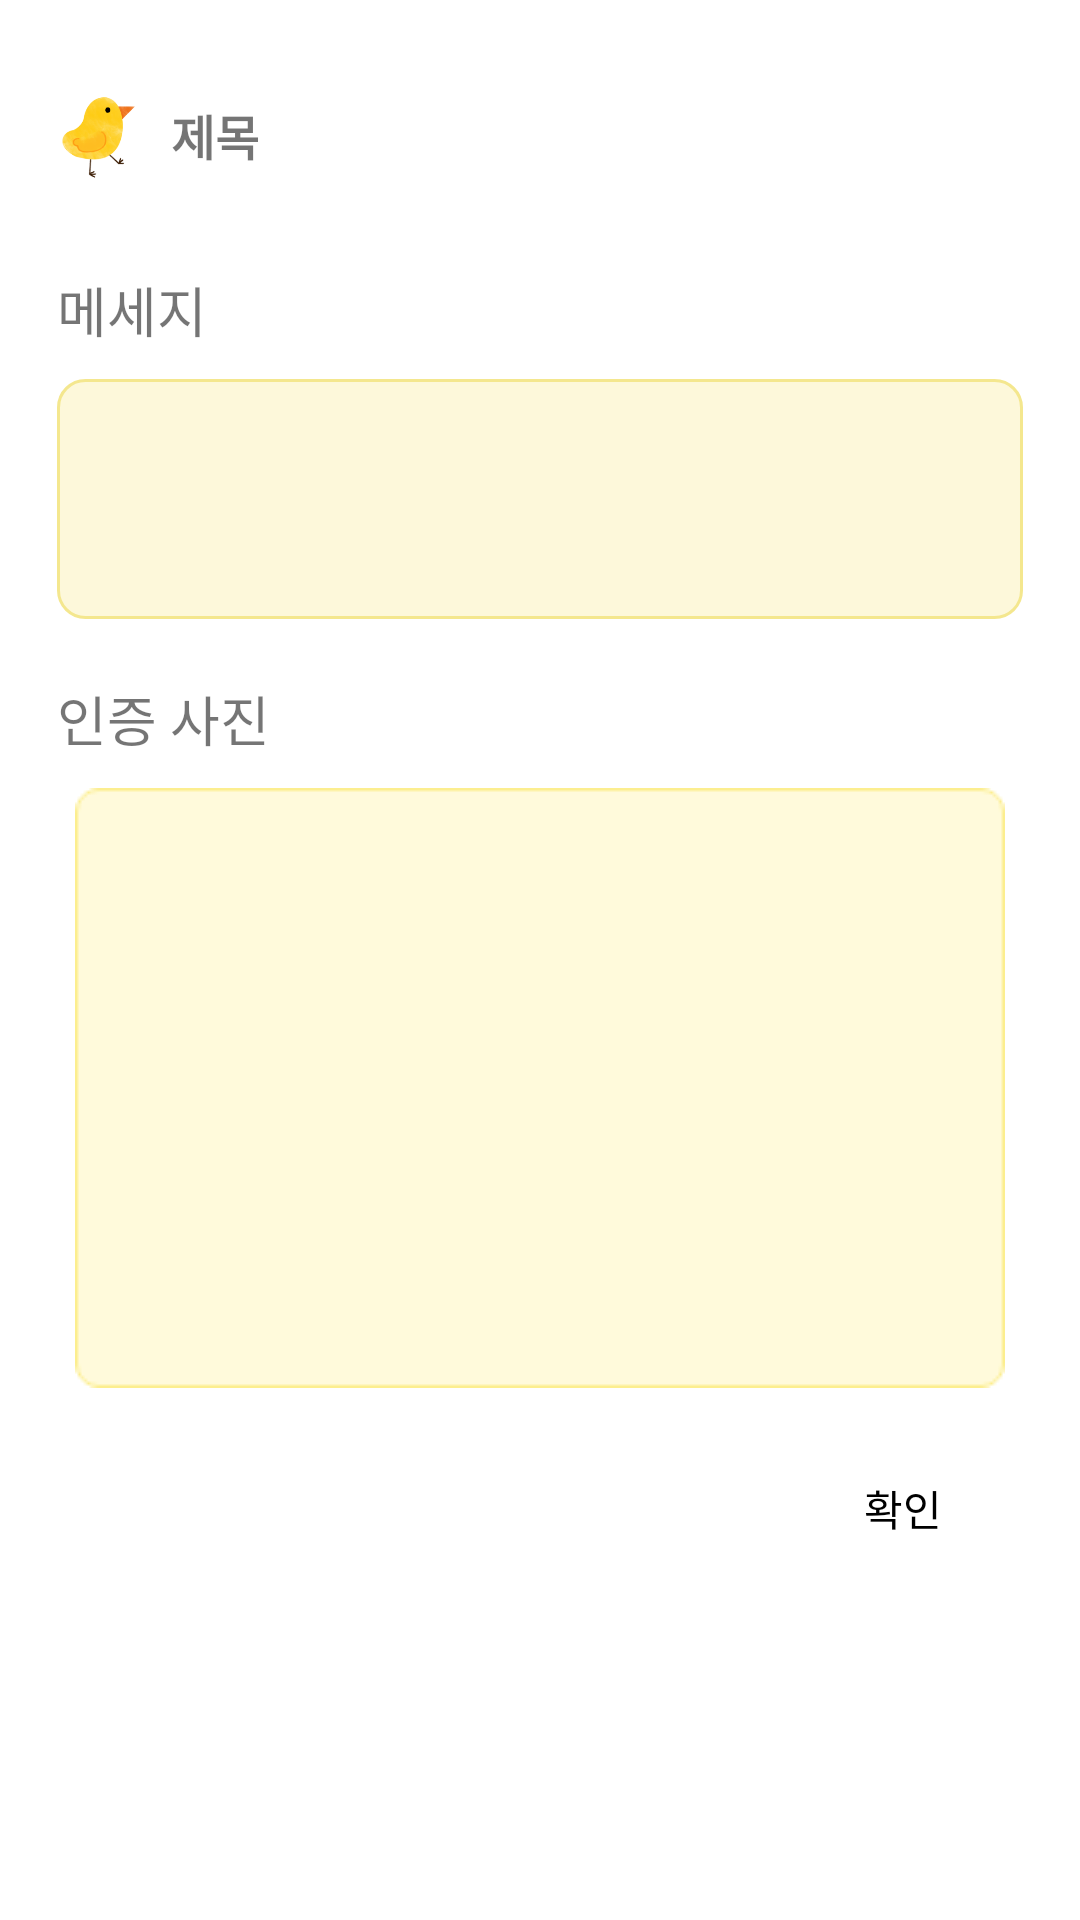

Named icons in this screenshot (1080*1920) and their centers, (x=x, y=y):
chick: (x=98, y=137)
